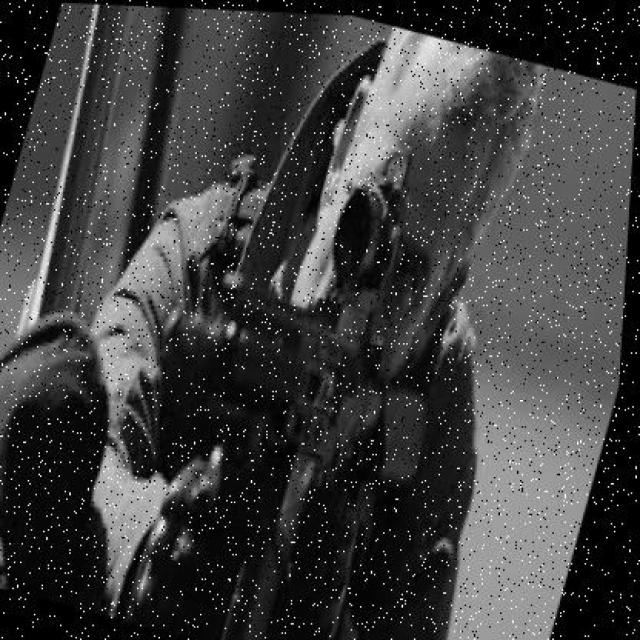weapon: (157, 155, 428, 639)
